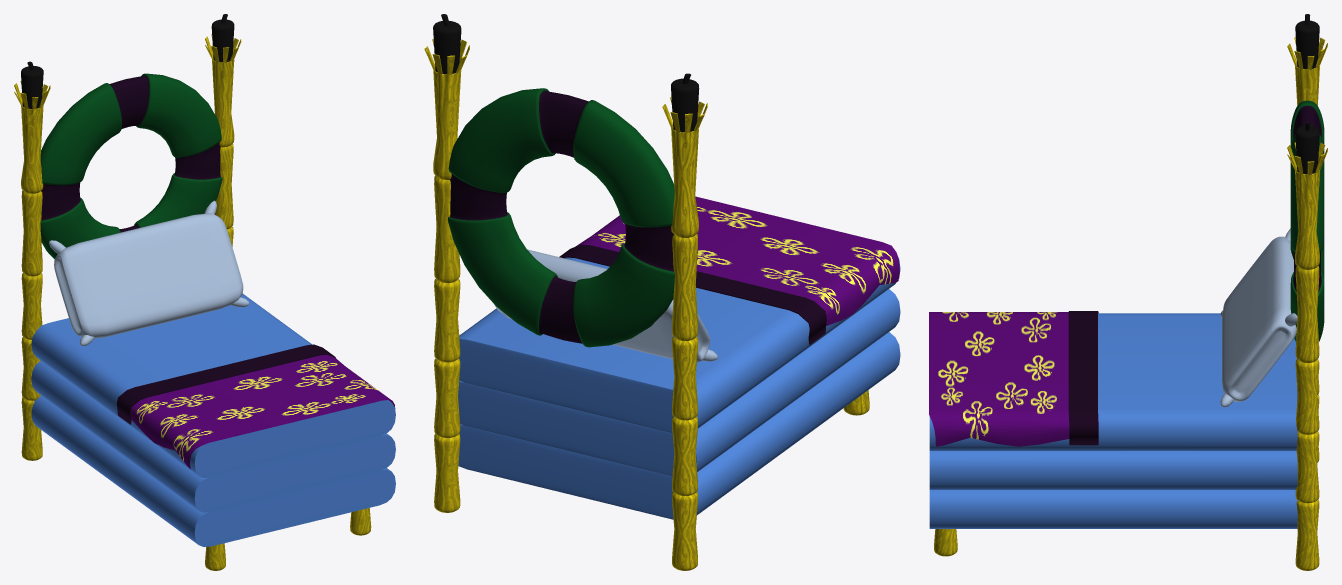
File: Spongebob's Bed.FBX
The picture shows the model from 3 angles, left to right: view 1: azimuth 30°, elevation 25°; view 2: azimuth 150°, elevation 25°; view 3: azimuth 270°, elevation 25°; orthographic projection. The views are drawn at different scales.
Visible parts, largest first — view 1: Bed; view 2: Bed; view 3: Bed.
Part boxes in pixels (x1,y1,x2,y2): Bed: (14,14,395,570); Bed: (424,14,900,570); Bed: (929,14,1327,570).
Size of the model in its own units: 332 by 563 by 457.
